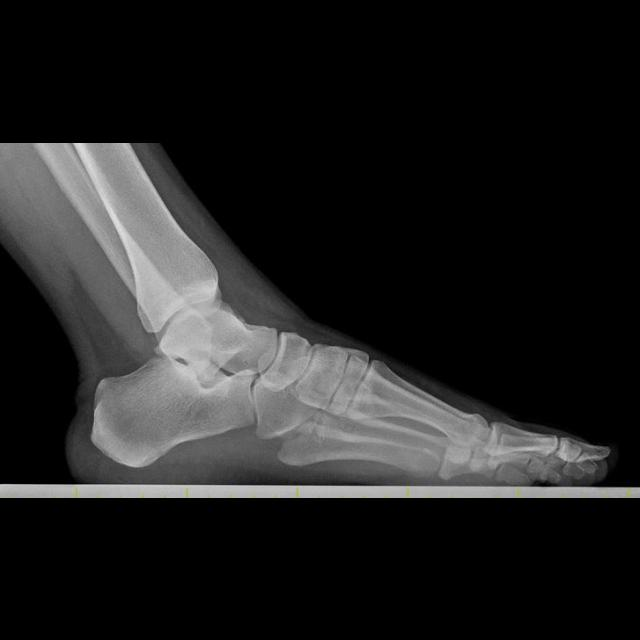a: (91, 354, 255, 466)
b: (261, 331, 311, 390)
c: (342, 360, 487, 447)
